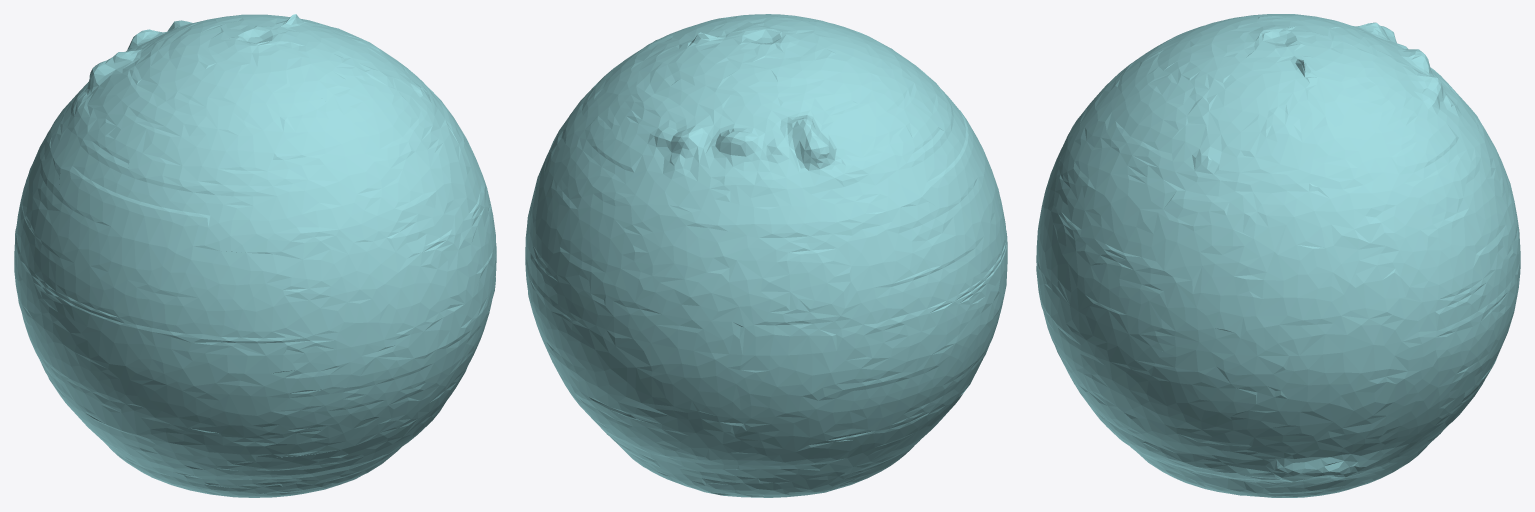
File: uranus.glb
3 renders of one model, left to right at view 1: azimuth 30°, elevation 25°; view 2: azimuth 150°, elevation 25°; view 3: azimuth 270°, elevation 25°, orthographic.
Parts seen in each view (by area): view 1: Uranus; view 2: Uranus; view 3: Uranus.
Part boxes in pixels (box(x1,y1,x2,y2)): Uranus: box(14, 14, 496, 497); Uranus: box(525, 14, 1007, 497); Uranus: box(1036, 14, 1520, 497).
Bounding box in the file's own units: 0.2997 × 0.2973 × 0.2994.
